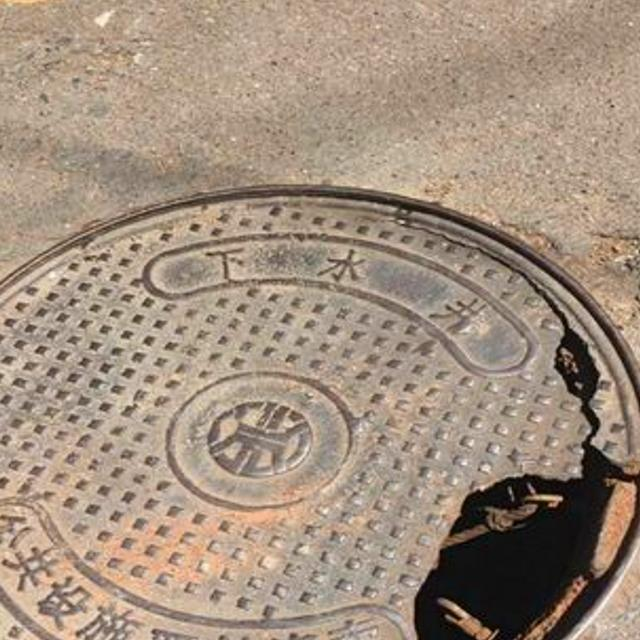broke: (0, 150, 640, 640)
